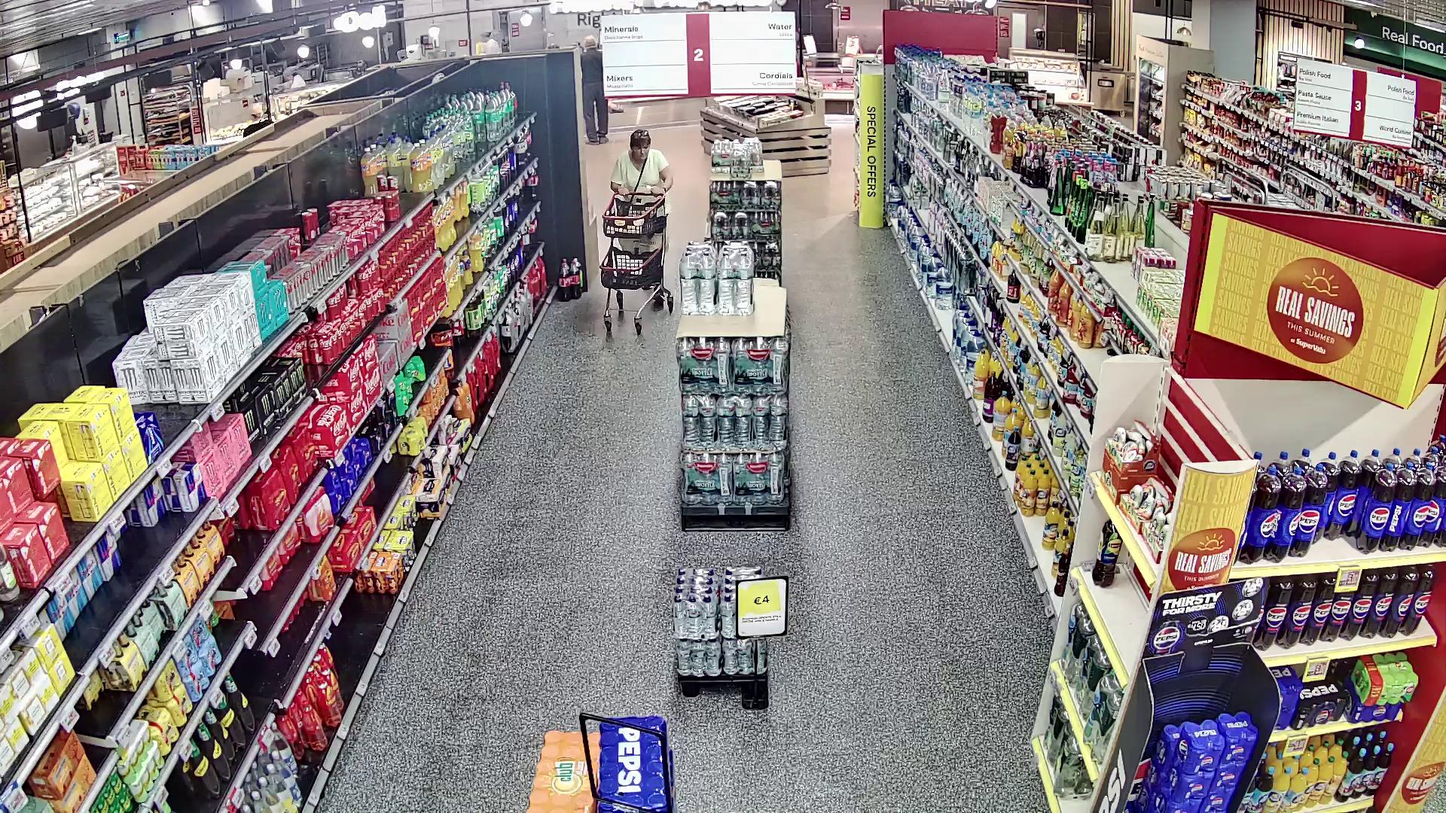filled-trolly: (600, 191, 674, 334)
person: (611, 129, 674, 197)
person-with-filled-basket-trolly: (600, 129, 674, 335)
